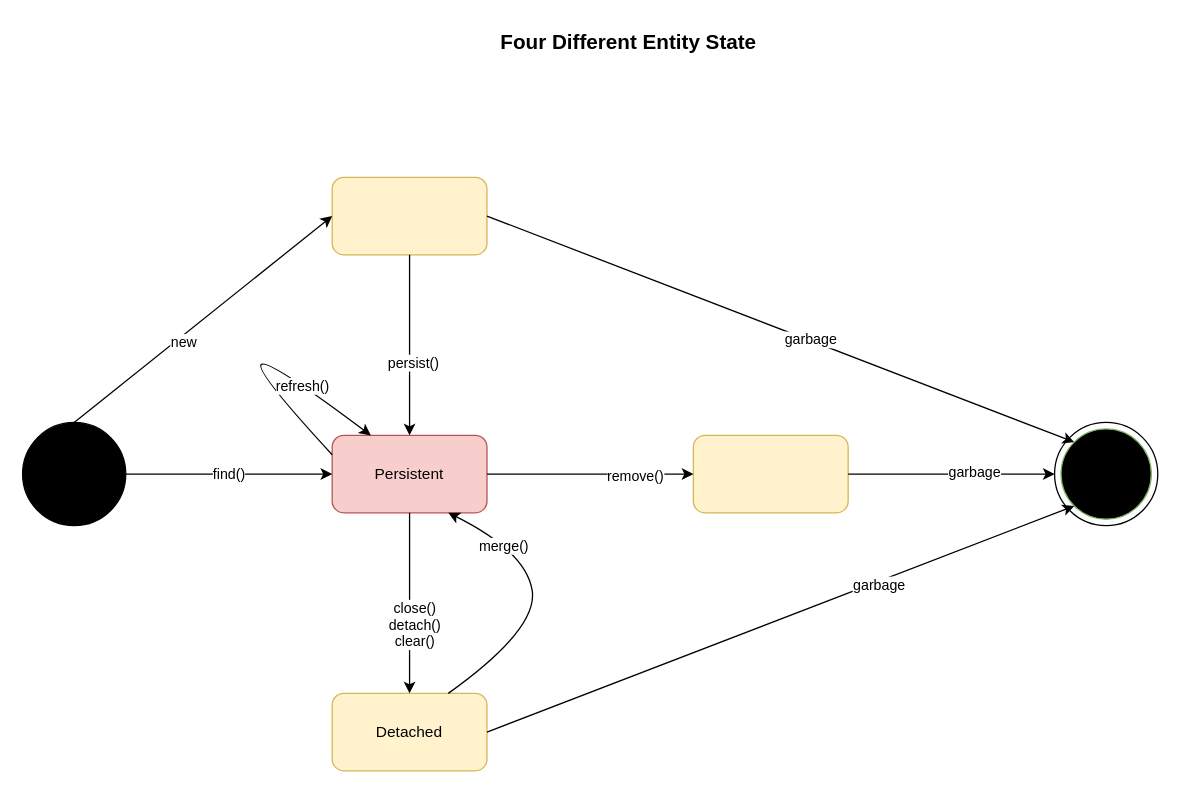
Some shapes in this 1180 by 793 pixel diagram are drawn without their labels. The centre of each missing label's shape, as x and y in pixels:
Removed: pixel 770 473
Transient: pixel 409 215
